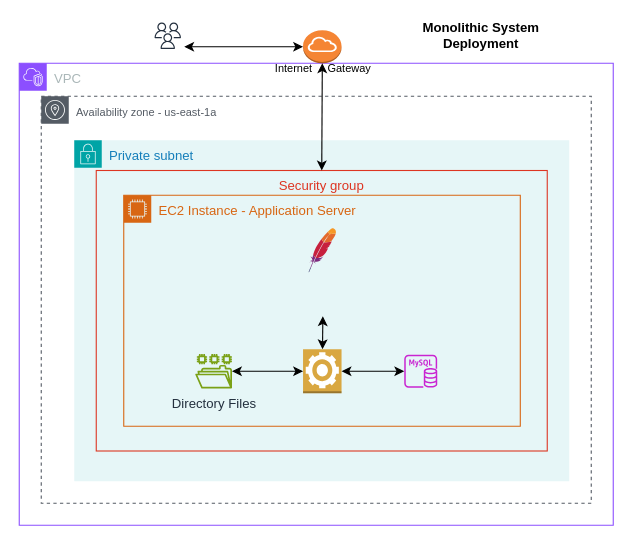
This 633x545 diagram has some shape labels left out. The centre of each missing label's shape, as x and y in pixels:
Application: the point at 322,370
MySQL Database: the point at 420,370
Users: the point at 167,35
Webserver (Apache 2): the point at 321,249
